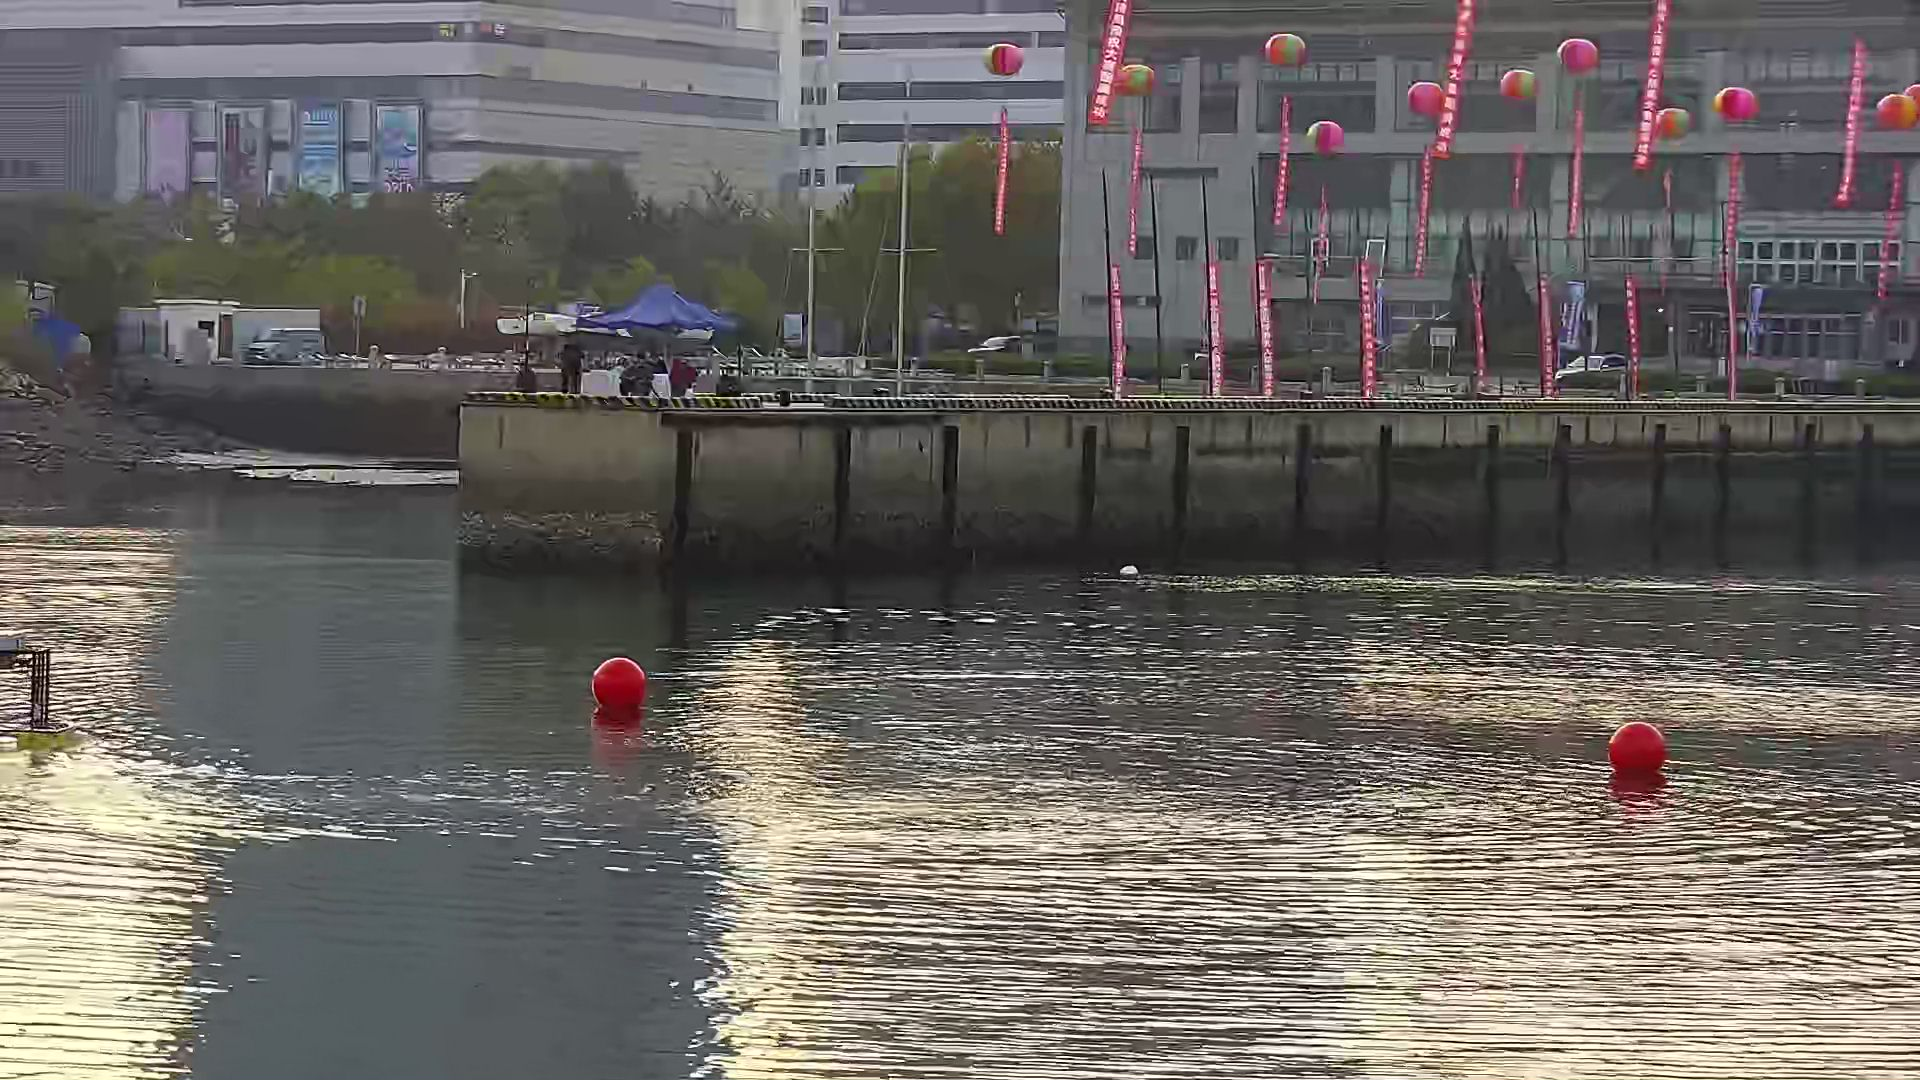ball: (589, 655, 651, 717), (1607, 725, 1669, 782)
